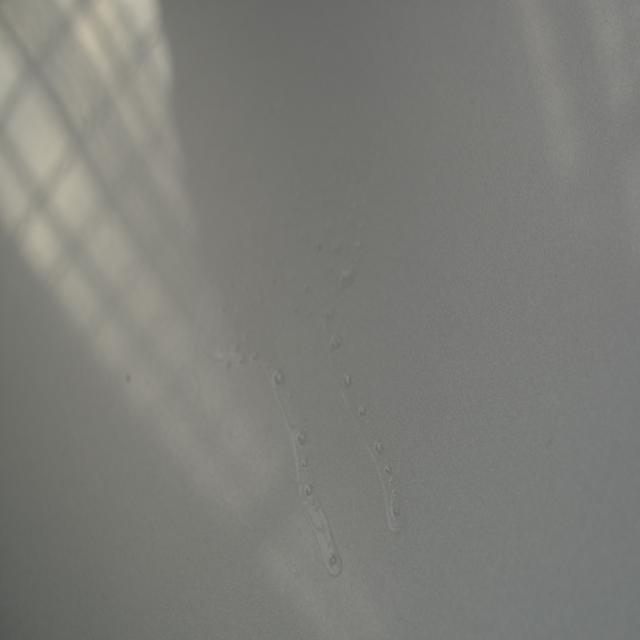dirt: (317, 238, 323, 260), (124, 370, 132, 385)
runs: (181, 172, 416, 580)
